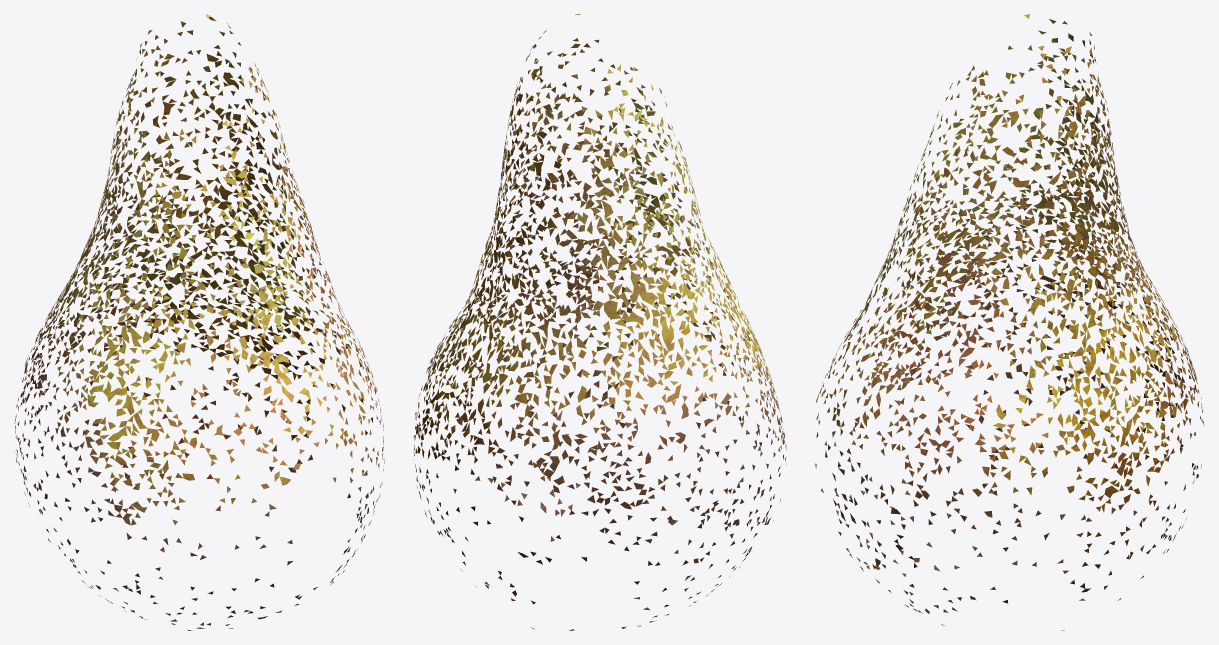
File: LowpolyPear.glb
3 views of the same model, side by side, from view 1: azimuth 30°, elevation 25°; view 2: azimuth 150°, elevation 25°; view 3: azimuth 270°, elevation 25° (orthographic). The views are drawn at different scales.
Visible parts, largest first — view 1: Object_4, Object_5, Object_3, Object_6; view 2: Object_3, Object_6, Object_5, Object_4; view 3: Object_4, Object_5, Object_3, Object_6.
Boxes of the visible parts, x1,y1,x2,y2 form: Object_4: [159, 14, 384, 589]; Object_5: [123, 23, 379, 612]; Object_3: [14, 35, 301, 630]; Object_6: [65, 84, 274, 628]; Object_3: [451, 82, 786, 628]; Object_6: [487, 94, 759, 630]; Object_5: [414, 30, 722, 588]; Object_4: [413, 14, 679, 585]; Object_4: [816, 14, 1179, 630]; Object_5: [815, 19, 1195, 612]; Object_3: [829, 45, 1196, 578]; Object_6: [818, 45, 1204, 600].
Bounding box in the file's own units: 1.9 × 3.29 × 1.93.
Materials: 1 (1 with a texture image).
